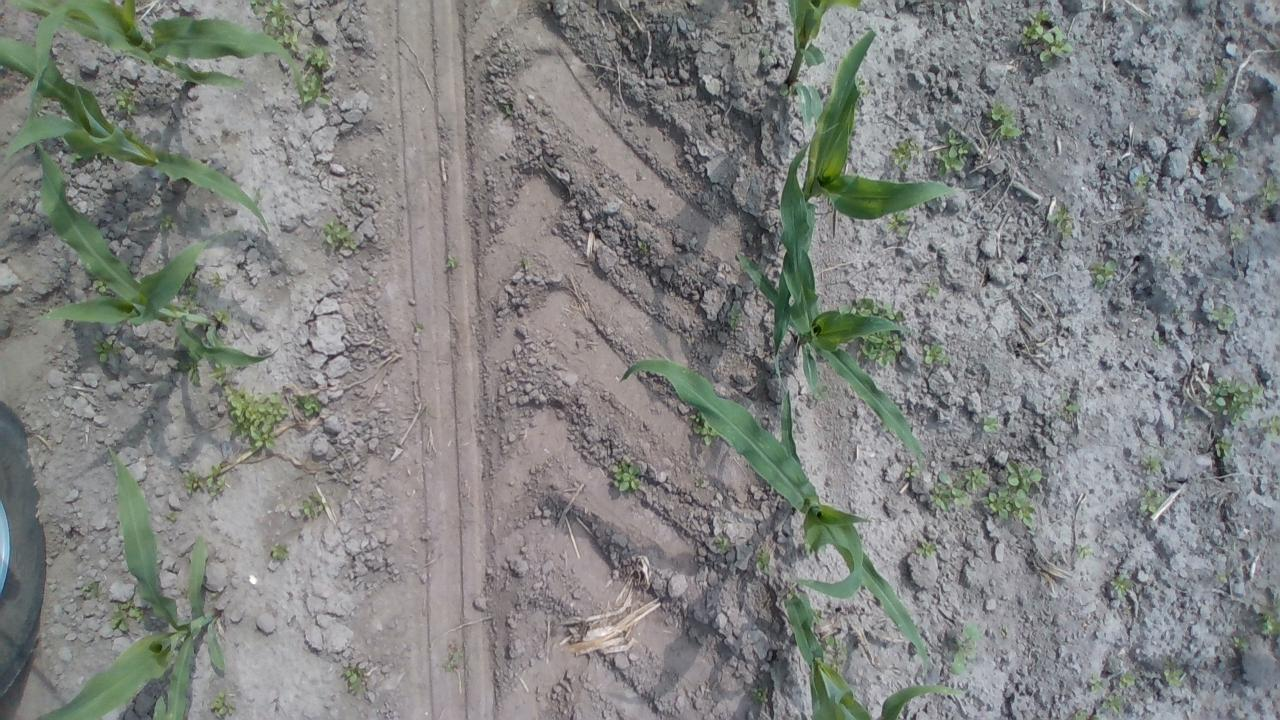Maize: (618, 359, 930, 675), (773, 30, 956, 384), (734, 122, 923, 457), (34, 141, 289, 368), (1, 36, 270, 235), (38, 443, 228, 720), (13, 0, 304, 119), (785, 591, 966, 720), (783, 0, 863, 126), (152, 694, 166, 720)
Weeds: (207, 362, 288, 450), (978, 458, 1045, 532), (1205, 374, 1266, 424), (1020, 9, 1074, 62), (926, 466, 988, 510), (948, 619, 982, 678), (263, 0, 299, 54), (834, 295, 906, 321), (939, 126, 976, 175), (860, 334, 901, 371), (986, 100, 1022, 140), (108, 600, 147, 636), (892, 135, 926, 176), (322, 220, 360, 249), (609, 457, 641, 491), (1088, 258, 1118, 292), (1046, 204, 1074, 240), (302, 72, 332, 104), (1136, 484, 1166, 516), (1257, 596, 1280, 637), (1200, 63, 1228, 96), (342, 661, 366, 698), (1160, 652, 1184, 689), (205, 462, 228, 498), (824, 634, 847, 670), (752, 548, 776, 581), (210, 690, 236, 718), (1160, 246, 1186, 274), (884, 210, 912, 236), (112, 85, 136, 115), (91, 338, 121, 362), (293, 392, 323, 416), (692, 420, 718, 447), (1060, 391, 1084, 420), (300, 492, 326, 518), (181, 470, 205, 498), (922, 343, 951, 366), (178, 360, 202, 387), (1259, 176, 1280, 206), (1258, 414, 1280, 442), (1209, 306, 1236, 328), (1108, 573, 1132, 597), (1140, 453, 1164, 477), (1214, 434, 1236, 459), (710, 531, 736, 552), (304, 47, 328, 69), (1102, 690, 1122, 716), (442, 648, 462, 672), (181, 285, 197, 312), (1064, 708, 1100, 720), (915, 540, 939, 558), (270, 541, 290, 562), (1132, 171, 1152, 192), (749, 684, 770, 704), (158, 212, 176, 234), (728, 304, 742, 332), (84, 579, 102, 600), (981, 416, 1001, 434), (1216, 103, 1230, 127), (924, 280, 942, 298), (1074, 542, 1094, 558), (1088, 672, 1104, 692), (1223, 152, 1239, 172), (1119, 672, 1136, 690), (1232, 635, 1252, 650), (856, 76, 870, 97), (500, 102, 515, 120), (1152, 332, 1166, 351), (812, 385, 828, 401), (1230, 228, 1246, 244), (213, 308, 230, 323), (903, 463, 918, 480), (68, 150, 83, 165), (445, 253, 460, 268), (250, 0, 264, 16), (1210, 132, 1228, 144), (812, 608, 824, 626), (410, 318, 424, 332), (1198, 150, 1212, 163), (92, 280, 107, 292), (166, 510, 178, 525), (208, 272, 220, 286), (1212, 571, 1226, 583), (1000, 624, 1011, 638), (520, 255, 531, 268), (636, 240, 649, 250), (760, 45, 770, 57), (690, 412, 701, 422), (1182, 412, 1192, 422), (1173, 309, 1185, 317), (694, 478, 702, 486)
